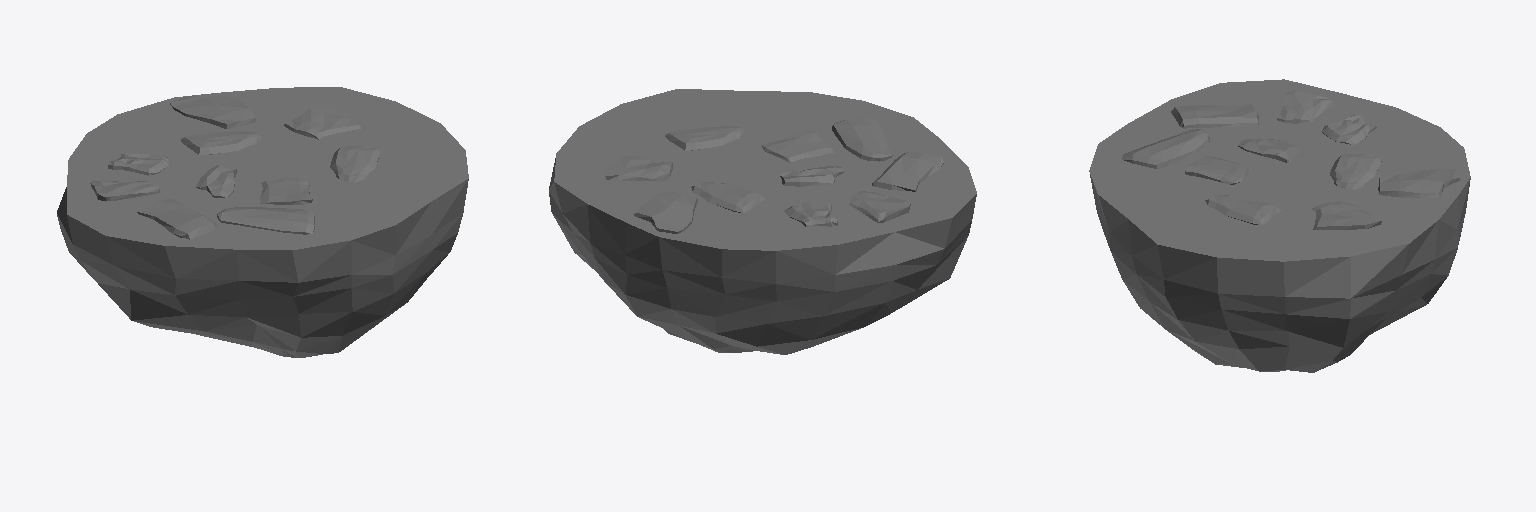
File: Island_S.obj
The picture shows the model from 3 angles: view 1: azimuth 30°, elevation 25°; view 2: azimuth 150°, elevation 25°; view 3: azimuth 270°, elevation 25°; orthographic projection.
Visible parts, largest first — view 1: S_Island, S_I_Stones; view 2: S_Island, S_I_Stones; view 3: S_Island, S_I_Stones.
Boxes of the visible parts, <box> form: S_Island: <box>57,87,468,357</box>; S_I_Stones: <box>90,96,379,239</box>; S_Island: <box>549,89,976,354</box>; S_I_Stones: <box>605,116,943,233</box>; S_Island: <box>1089,79,1470,372</box>; S_I_Stones: <box>1122,91,1459,229</box>.
Bounding box in the file's own units: 5.05 × 2.4 × 4.47.